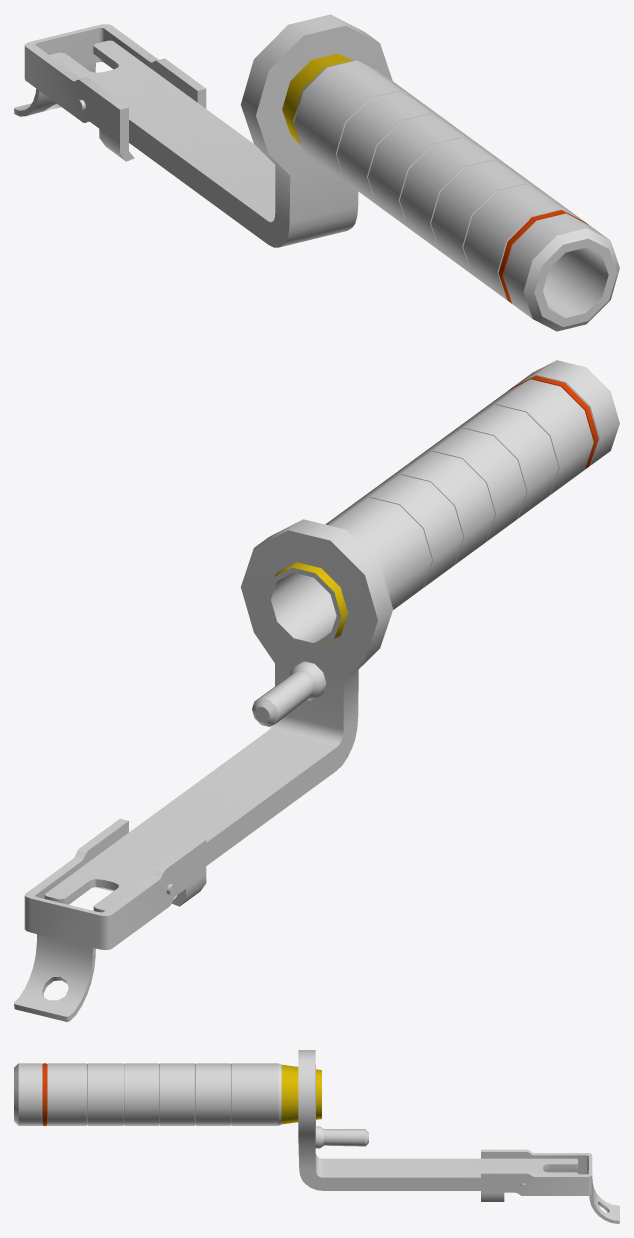
3 views of the same model, one above another, from view 1: azimuth 30°, elevation 25°; view 2: azimuth 150°, elevation 25°; view 3: azimuth 270°, elevation 25° (orthographic). The views are drawn at different scales.
Parts seen in each view (by area): view 1: Body, Latch; view 2: Body, Latch; view 3: Body, Latch.
Boxes of the visible parts, left/top/right/bottom form: Body: left=49, top=14, right=619, bottom=331; Latch: left=14, top=24, right=206, bottom=161; Body: left=44, top=360, right=619, bottom=912; Latch: left=14, top=818, right=206, bottom=1021; Body: left=14, top=1050, right=578, bottom=1190; Latch: left=481, top=1149, right=619, bottom=1223.
Bounding box in the file's own units: 3.78 × 7.47 × 25.53.
